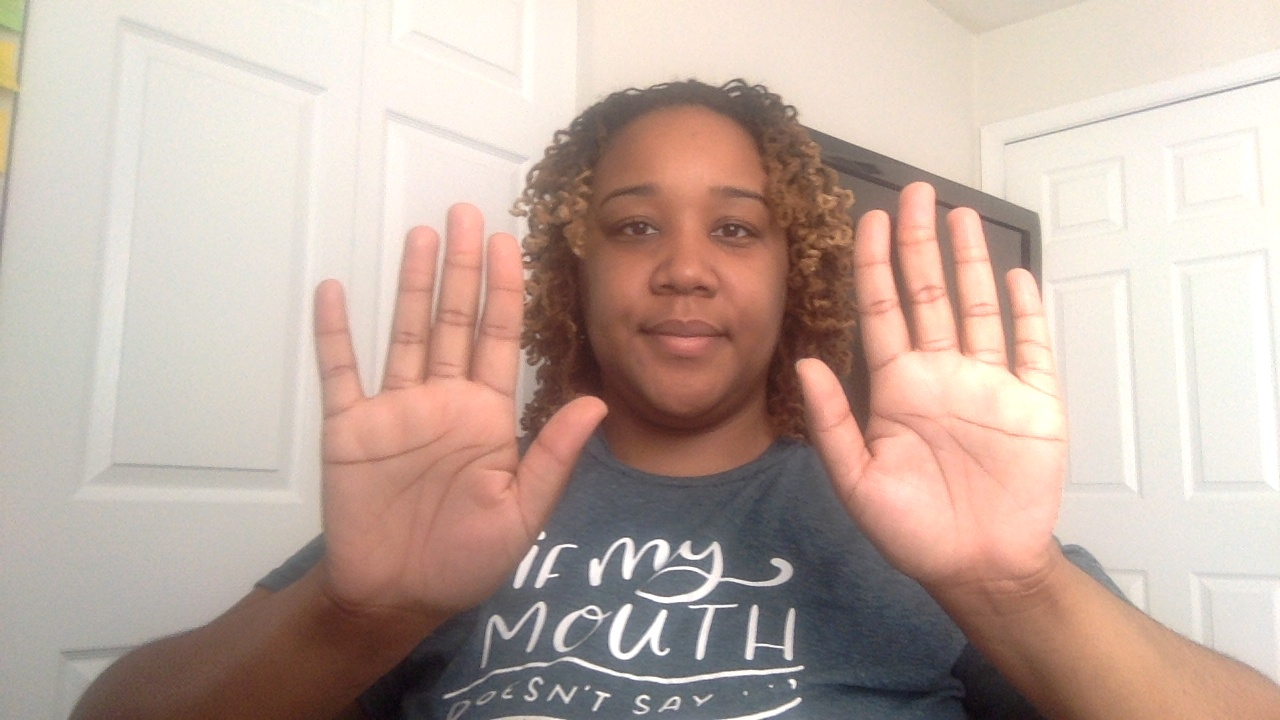great: (303, 78, 1072, 647)
